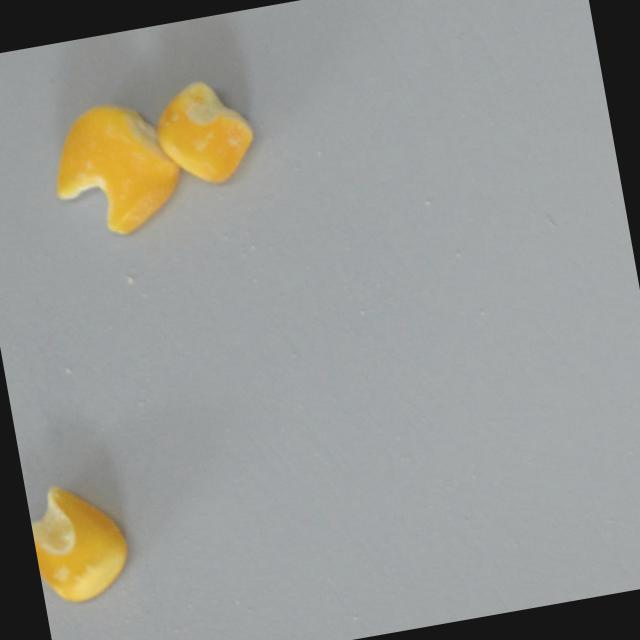no_canjicado: (42, 89, 189, 242), (24, 471, 137, 606), (147, 69, 261, 191)
